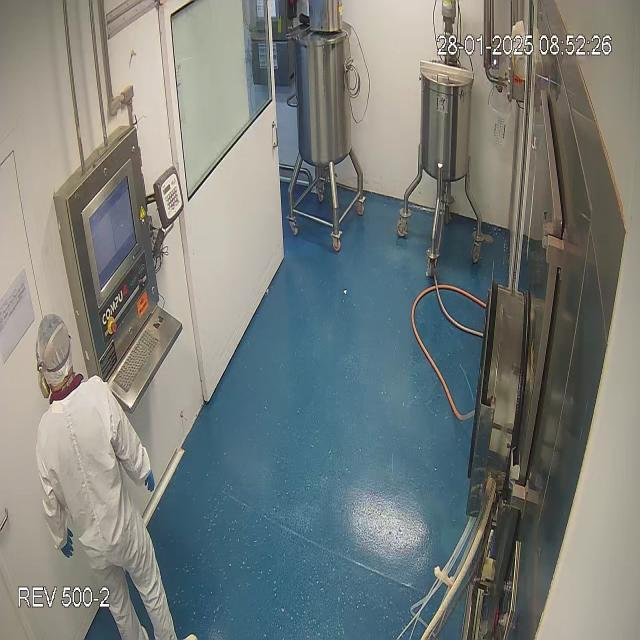pessoa: (31, 310, 164, 640)
touca: (32, 314, 82, 396)
